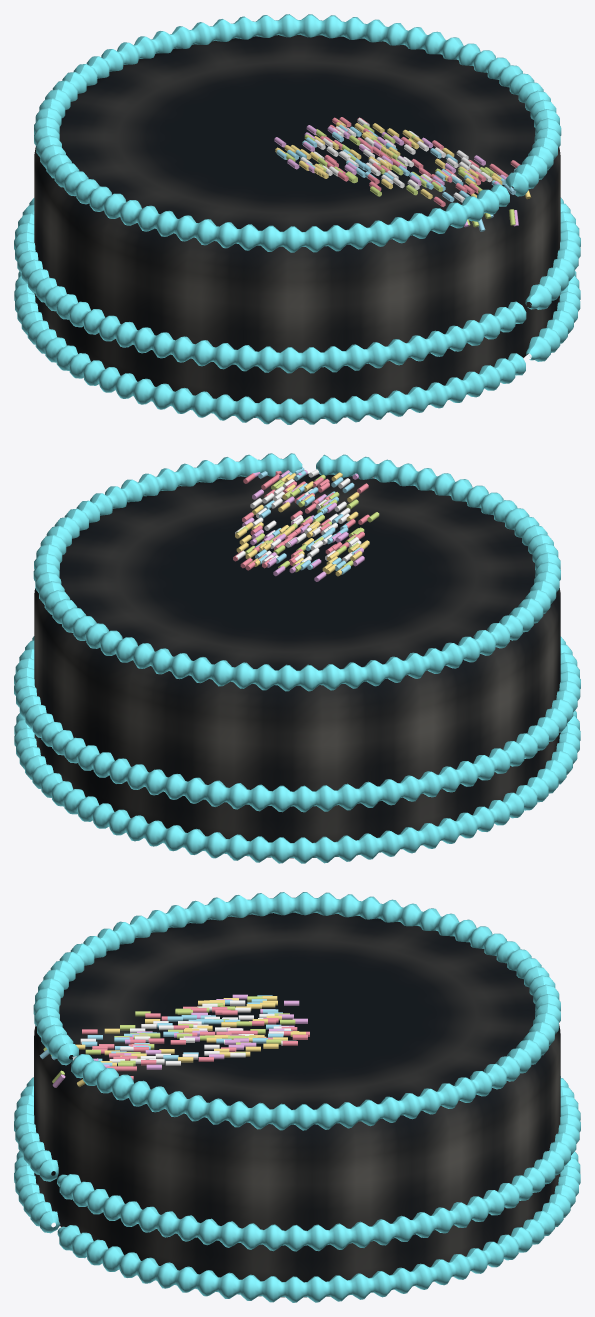
File: cake.glb
The picture shows the model from 3 angles, top to bottom: view 1: azimuth 30°, elevation 25°; view 2: azimuth 150°, elevation 25°; view 3: azimuth 270°, elevation 25°; orthographic projection.
Bounding box in the file's own units: 0.2585 × 0.0984 × 0.2584.
